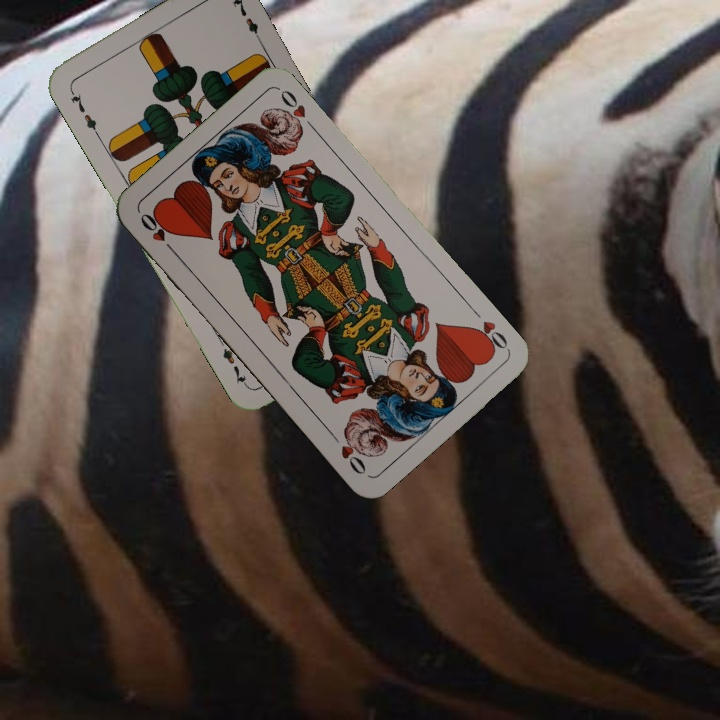E7: (65, 85, 102, 139)
HO: (136, 209, 180, 257), (467, 316, 512, 356)
